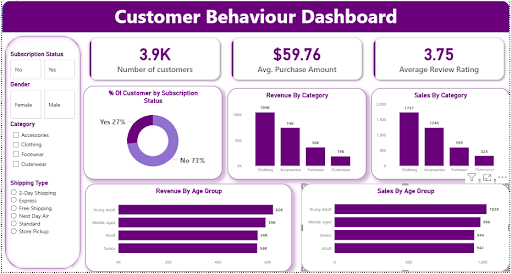

The dashboard page shown, as its layout file describes it:
{"tool":"powerbi","page":{"name":"Page 1","canvas":[1500,800],"ordinal":0},"visuals":[{"type":"cardVisual","fields":{"Data":["customer_behavior customer.Number of customers","customer_behavior customer.Average Purchase Amount","customer_behavior customer.Average Review Rating"]},"box":[240.7,92.7,1260.2,157.7],"z":0},{"type":"shape","box":[0,0,1500.8,92.7],"z":1000},{"type":"textbox","box":[0,0,1500.8,92.7],"z":2000},{"type":"donutChart","title":"% Of Customer by Subscription Status","fields":{"Category":["customer_behavior customer.subscription_status"],"Y":["CountNonNull(customer_behavior customer.customer_id)"]},"box":[240.7,250.4,409.8,276.4],"z":3000},{"type":"clusteredColumnChart","title":"Revenue By Category","fields":{"Category":["customer_behavior customer.category"],"Y":["Sum(customer_behavior customer.purchase_amount)"]},"box":[666.7,256.9,409.8,269.9],"z":4000},{"type":"clusteredColumnChart","title":"Sales By Category","fields":{"Y":["CountNonNull(customer_behavior customer.customer_id)"],"Category":["customer_behavior customer.category"]},"box":[1091.1,256.9,409.8,269.9],"z":5000},{"type":"shape","box":[0,94.3,240.7,705.7],"z":6000},{"type":"advancedSlicerVisual","fields":{"Values":["customer_behavior customer.subscription_status"]},"box":[19.5,146.3,200,89.4],"z":7000},{"type":"advancedSlicerVisual","fields":{"Values":["customer_behavior customer.gender"]},"box":[19.5,235.8,200,117.1],"z":8000},{"type":"slicer","title":"Category","fields":{"Values":["customer_behavior customer.category"]},"box":[19.5,352.8,200,157.7],"z":9000},{"type":"listSlicer","fields":{"Values":["customer_behavior customer.shipping_type"]},"box":[19.5,526.8,200,217.9],"z":10000},{"type":"clusteredBarChart","title":"Revenue By Age Group","fields":{"Y":["Sum(customer_behavior customer.purchase_amount)"],"Category":["customer_behavior customer.age_group"]},"box":[245.5,539.8,611.4,260.2],"z":11000},{"type":"clusteredBarChart","title":"Sales By Age Group","fields":{"Category":["customer_behavior customer.age_group"],"Y":["CountNonNull(customer_behavior customer.customer_id)"]},"box":[884.6,539.8,616.3,260.2],"z":12000}]}

Visuals, with their boxes in screenshot pixels (x1, y1, x2, y2), scaled from the page's 1500x800 canvas onto the 512x274 screenshot:
cardVisual - customer_behavior customer.Number of customers x customer_behavior customer.Average Purchase Amount: 82:32:511:86
shape: 0:0:511:32
textbox: 0:0:511:32
"% Of Customer by Subscription Status" donutChart: 82:86:222:180
"Revenue By Category" clusteredColumnChart: 228:88:367:180
"Sales By Category" clusteredColumnChart: 372:88:511:180
shape: 0:32:82:273
advancedSlicerVisual - customer_behavior customer.subscription_status: 7:50:75:81
advancedSlicerVisual - customer_behavior customer.gender: 7:81:75:121
"Category" slicer: 7:121:75:175
listSlicer - customer_behavior customer.shipping_type: 7:180:75:255
"Revenue By Age Group" clusteredBarChart: 84:185:292:273
"Sales By Age Group" clusteredBarChart: 302:185:511:273
